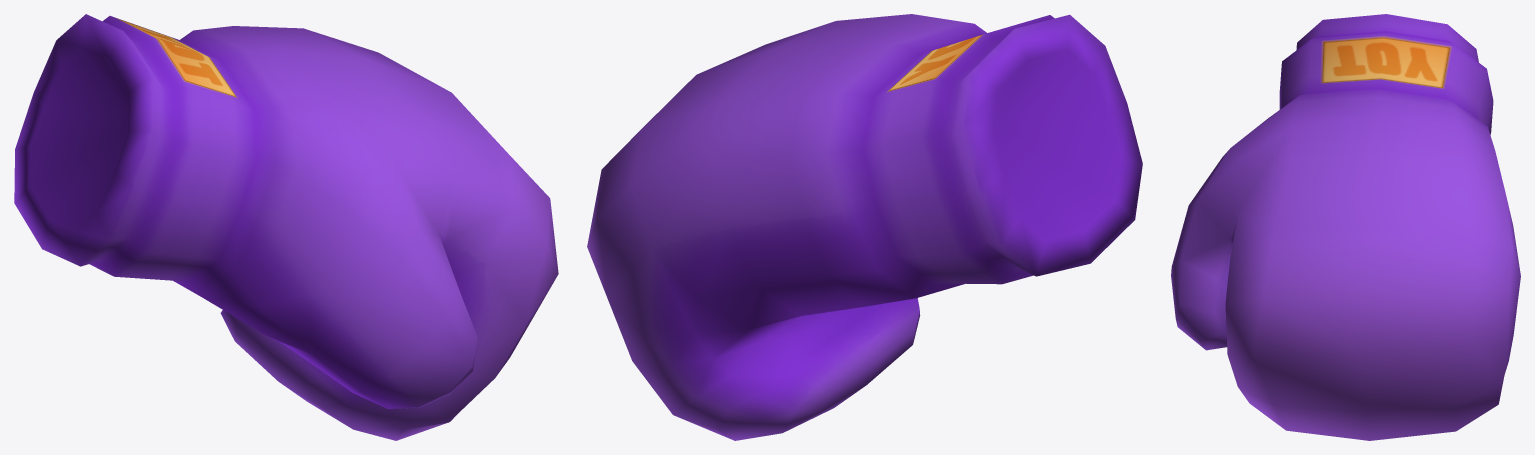
File: GLOVES_L.fbx
3 views of the same model, side by side, from view 1: azimuth 30°, elevation 25°; view 2: azimuth 150°, elevation 25°; view 3: azimuth 270°, elevation 25° (orthographic). The views are drawn at different scales.
Parts seen in each view (by area): view 1: gloves_L; view 2: gloves_L; view 3: gloves_L.
Part boxes in pixels (x1,y1,x2,y2): gloves_L: (14, 14, 558, 440); gloves_L: (587, 14, 1142, 440); gloves_L: (1171, 14, 1520, 440).
Size of the model in its own units: 53.84 by 49.62 by 47.2.
